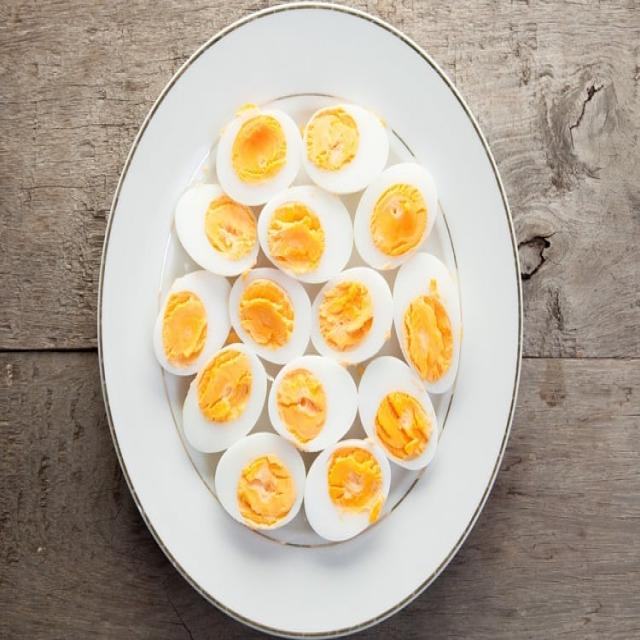trung luoc: (394, 253, 460, 393), (359, 356, 439, 470), (183, 344, 266, 453), (259, 186, 352, 282), (216, 433, 305, 530), (354, 164, 436, 269), (304, 440, 390, 540), (269, 356, 356, 451), (216, 110, 301, 205), (311, 268, 393, 365), (154, 271, 230, 374), (175, 183, 258, 276), (230, 270, 311, 364), (303, 104, 388, 193)
